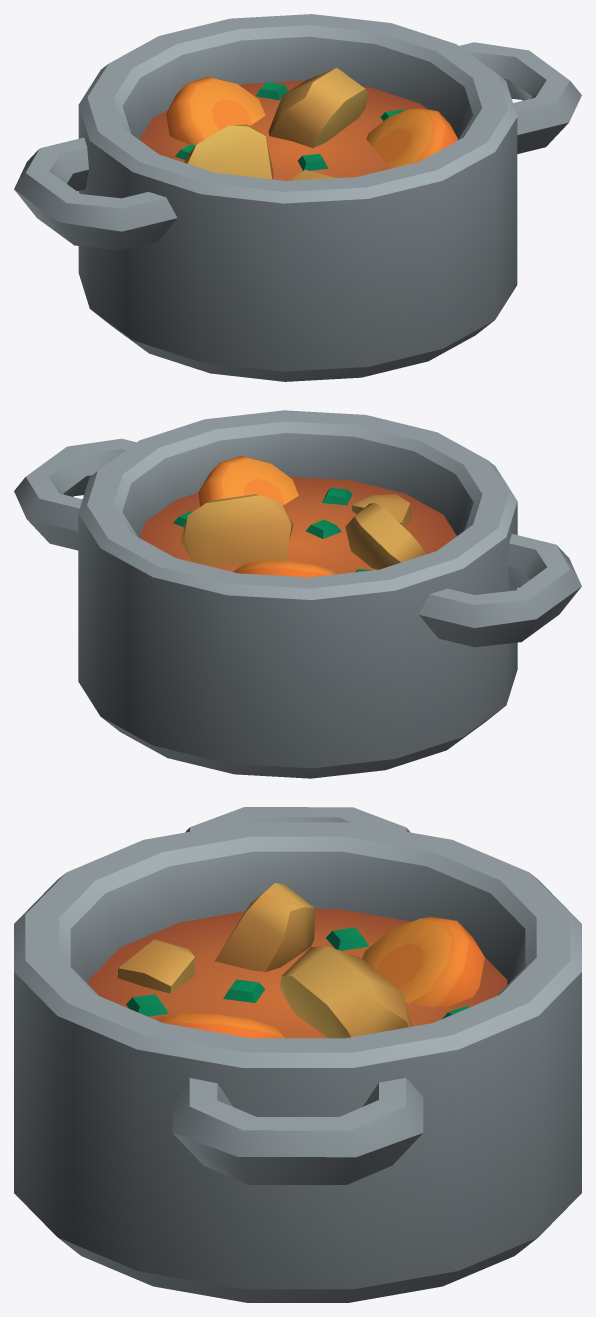
The model's file is pot_a_stew.glb.
3 views of the same model, one above another, from view 1: azimuth 30°, elevation 25°; view 2: azimuth 150°, elevation 25°; view 3: azimuth 270°, elevation 25° (orthographic). The views are drawn at different scales.
Parts seen in each view (by area): view 1: pot_A_stew; view 2: pot_A_stew; view 3: pot_A_stew.
Part boxes in pixels (x1=…): pot_A_stew: x1=14, y1=14, x2=581, y2=381; pot_A_stew: x1=14, y1=410, x2=581, y2=778; pot_A_stew: x1=14, y1=807, x2=581, y2=1302.
Bounding box in the file's own units: 1.4 × 0.5159 × 1.
1 material, 1 textured.
